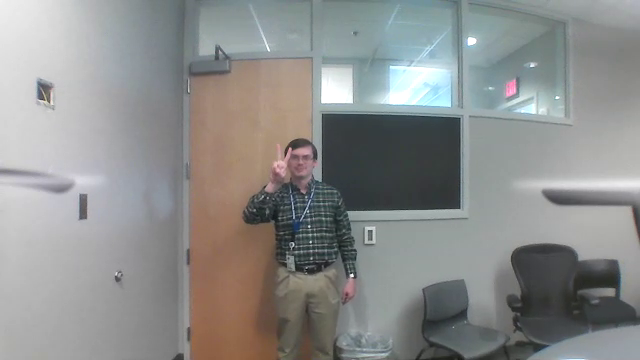peace: (268, 143, 293, 182)
